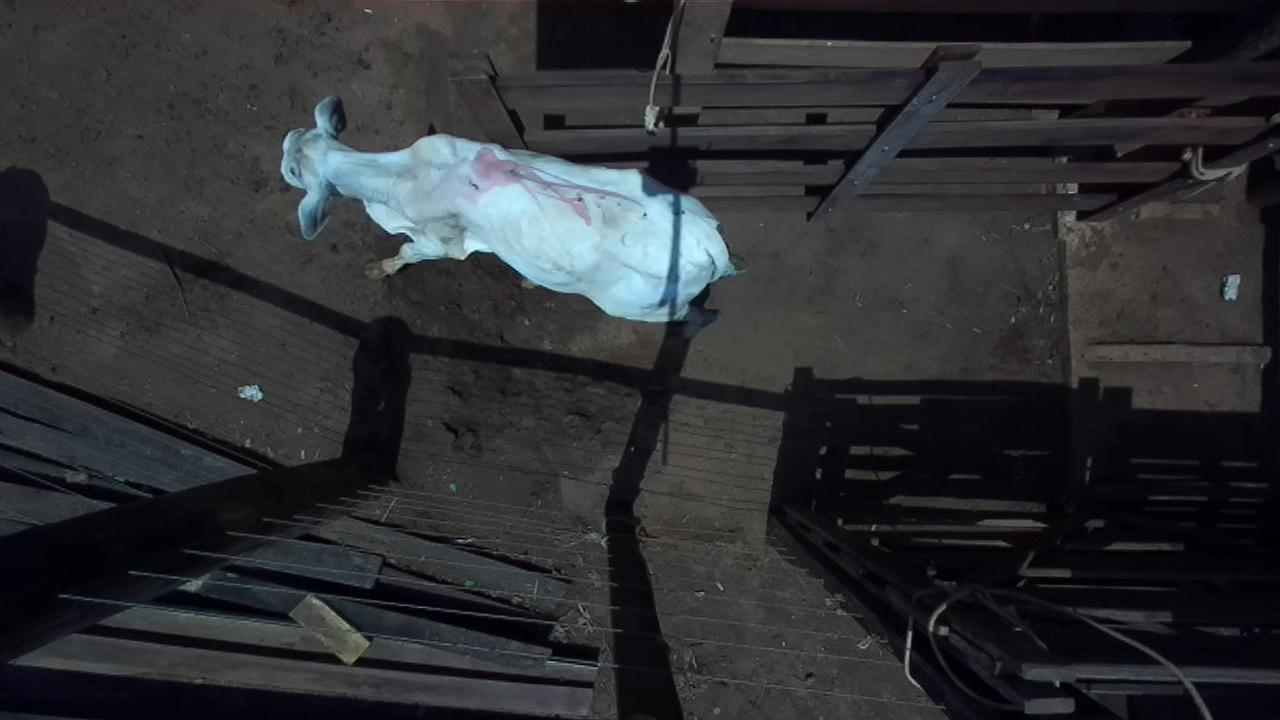cattle: (278, 94, 745, 325)
